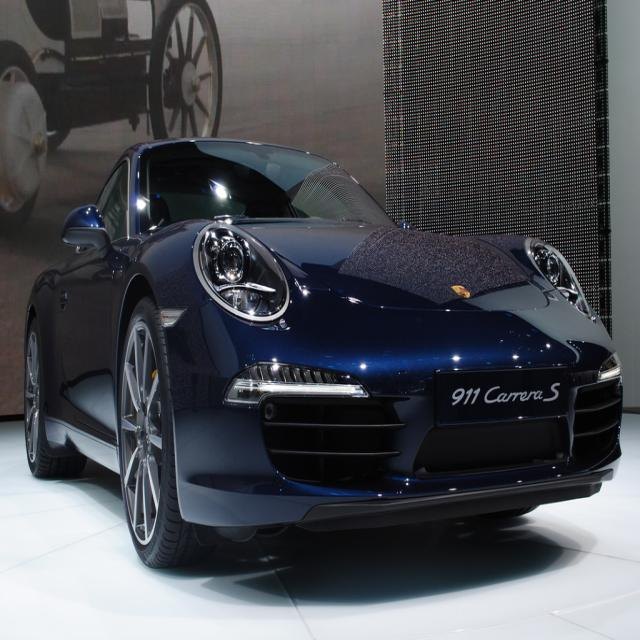car: (22, 131, 627, 569)
